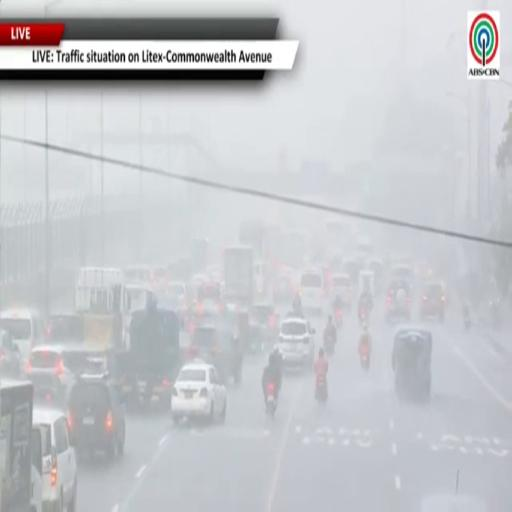car: (68, 373, 125, 459), (33, 408, 77, 511), (171, 361, 227, 423), (189, 322, 241, 383), (392, 325, 432, 401), (25, 345, 74, 406), (0, 309, 44, 361), (277, 315, 315, 370), (385, 279, 412, 323), (300, 269, 324, 315), (250, 302, 278, 341), (420, 282, 446, 322), (0, 330, 21, 378), (331, 274, 354, 309), (273, 270, 296, 303)
motorcycle: (266, 381, 276, 419), (315, 376, 327, 404), (360, 344, 370, 371), (324, 334, 335, 357), (358, 307, 367, 324), (335, 308, 342, 327), (463, 314, 471, 330)
truck: (116, 302, 182, 409), (0, 379, 42, 511), (75, 267, 130, 349), (224, 246, 254, 308)
